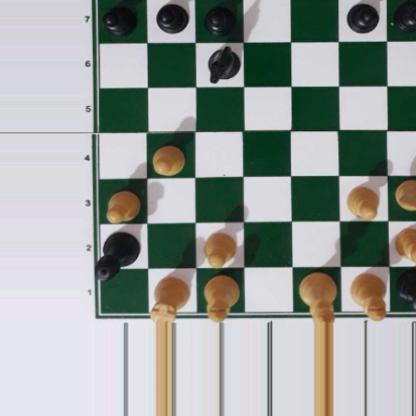black-bishop: (394, 268, 416, 318)
black-knight: (205, 45, 239, 81)
black-pawn: (346, 1, 379, 33), (203, 2, 235, 34), (102, 4, 136, 34), (155, 2, 186, 34), (395, 0, 416, 31)
black-queen: (94, 230, 141, 282)
white-bishop: (349, 273, 388, 322), (202, 275, 241, 324)
white-king: (298, 272, 336, 324)
white-knight: (392, 178, 416, 215)
white-pawn: (201, 230, 238, 266), (149, 141, 187, 176), (104, 189, 140, 223), (345, 184, 379, 220), (392, 225, 416, 263)
white-rook: (148, 275, 190, 324)
